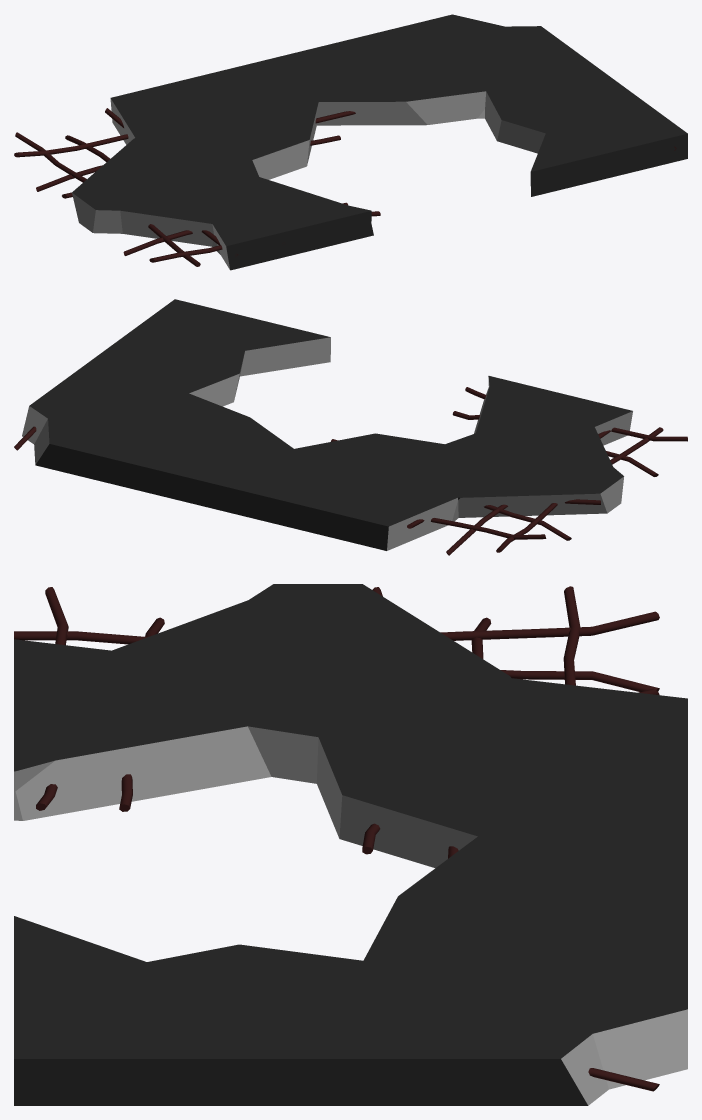
File: P_MurCasséPorte.fbx
The picture shows the model from 3 angles, top to bottom: view 1: azimuth 30°, elevation 25°; view 2: azimuth 150°, elevation 25°; view 3: azimuth 270°, elevation 25°; orthographic projection. The views are drawn at different scales.
Visible parts, largest first — view 1: P_MurCasséPorte; view 2: P_MurCasséPorte; view 3: P_MurCasséPorte.
Part boxes in pixels (left/top/right/bottom): P_MurCasséPorte: left=14, top=14, right=687, bottom=270; P_MurCasséPorte: left=14, top=299, right=687, bottom=555; P_MurCasséPorte: left=14, top=584, right=687, bottom=1105.
Size of the model in its own units: 657 by 30 by 390.
